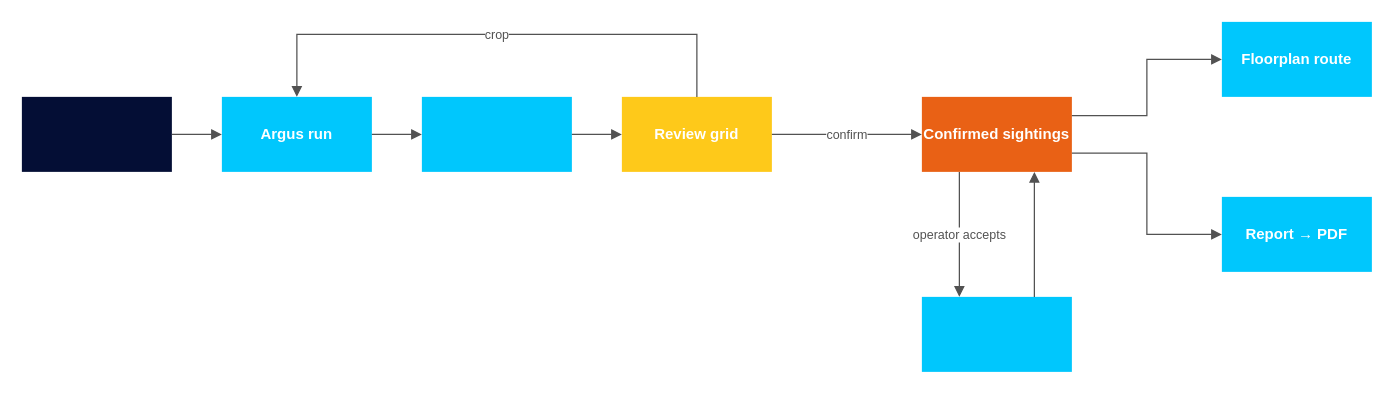
Some shapes in this 1393 by 393 pixel diagram are drawn without their labels. The centre of each missing label's shape, as x and y in pixels:
"Live search" belongs at point 996,333.
"Photo / description" belongs at point 96,133.
"vss_search_video" belongs at point 496,133.
